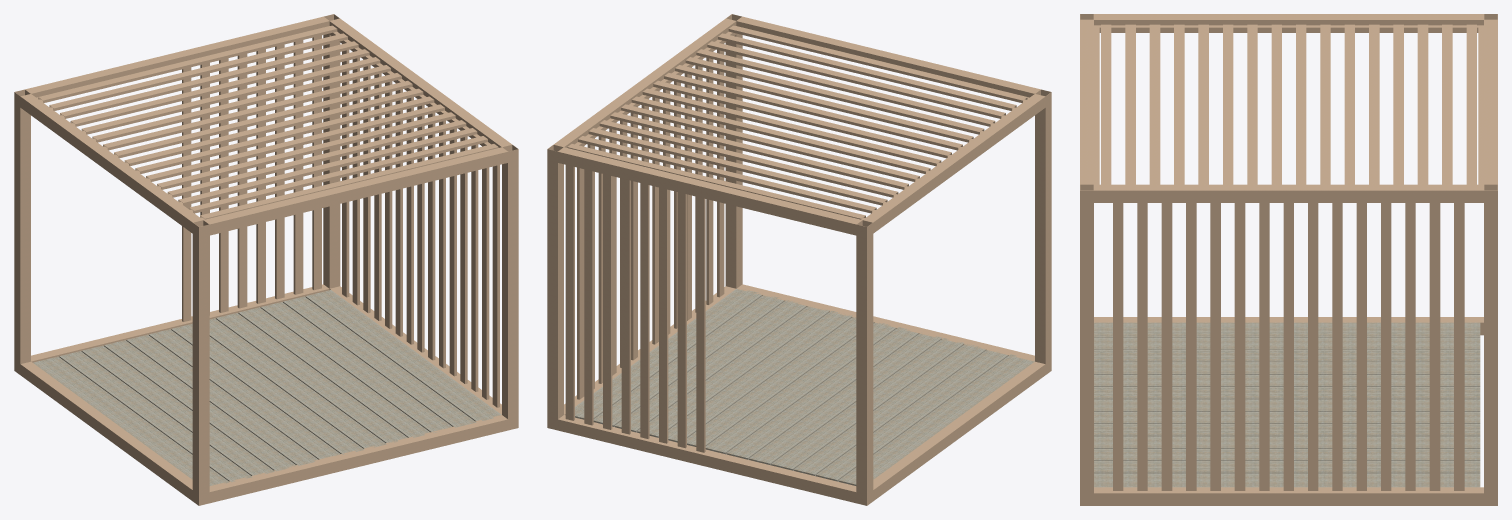
Rendered from 3x3 basica.glb.
3 views of the same model, side by side, from view 1: azimuth 30°, elevation 25°; view 2: azimuth 150°, elevation 25°; view 3: azimuth 270°, elevation 25° (orthographic). The views are drawn at different scales.
Visible parts, largest first — view 1: 100/100 (1) (1), Piso (15) (1), Piso (4) (1), Piso (5) (1), Piso (6) (1), Piso (16) (1), Piso (14) (1), Piso (13) (1), Piso (7) (1), Piso (2) (1), Piso (17) (1), Piso (18) (1) (+4 smaller); view 2: 100/100 (1) (1), Piso (3) (1), Piso (13) (1), Piso (18) (1), Piso (17) (1), Piso (7) (1), Piso (2) (1), Piso (14) (1), Piso (6) (1), Piso (8) (1), Piso (4) (1), Piso (16) (1) (+3 smaller); view 3: 100/100 (1) (1), Piso (13) (1), Piso (17) (1), Piso (2) (1), Piso (4) (1), Piso (14) (1), Piso (15) (1), Piso (16) (1), Piso (18) (1), Piso (3) (1), Piso (6) (1), Piso (7) (1) (+6 smaller).
Boxes of the visible parts, x1,y1,x2,y2 form: 100/100 (1) (1): (14, 14, 518, 505); Piso (15) (1): (283, 296, 476, 427); Piso (4) (1): (238, 307, 429, 437); Piso (5) (1): (305, 291, 496, 421); Piso (6) (1): (216, 313, 407, 443); Piso (16) (1): (260, 302, 452, 432); Piso (14) (1): (209, 318, 386, 448); Piso (13) (1): (104, 340, 296, 471); Piso (7) (1): (126, 334, 317, 465); Piso (2) (1): (59, 351, 252, 482); Piso (17) (1): (171, 323, 364, 454); Piso (18) (1): (81, 345, 274, 475); 100/100 (1) (1): (547, 14, 1051, 505); Piso (3) (1): (726, 327, 918, 459); Piso (13) (1): (771, 338, 964, 470); Piso (18) (1): (793, 344, 985, 476); Piso (17) (1): (705, 322, 896, 454); Piso (7) (1): (749, 332, 942, 465); Piso (2) (1): (816, 350, 1008, 481); Piso (14) (1): (687, 317, 873, 446); Piso (6) (1): (668, 310, 852, 442); Piso (8) (1): (838, 354, 1030, 485); Piso (4) (1): (637, 306, 829, 437); Piso (16) (1): (614, 299, 806, 432); 100/100 (1) (1): (1080, 14, 1497, 505); Piso (13) (1): (1094, 362, 1480, 374); Piso (17) (1): (1094, 399, 1480, 411); Piso (2) (1): (1094, 337, 1480, 349); Piso (4) (1): (1094, 436, 1480, 448); Piso (14) (1): (1094, 411, 1480, 423); Piso (15) (1): (1094, 461, 1480, 473); Piso (16) (1): (1094, 448, 1480, 460); Piso (18) (1): (1094, 349, 1480, 361); Piso (3) (1): (1094, 387, 1480, 399); Piso (6) (1): (1094, 424, 1480, 436); Piso (7) (1): (1094, 374, 1480, 386).
Bounding box in the file's own units: 30 × 25 × 30.
Materials: 2 (2 with a texture image).
